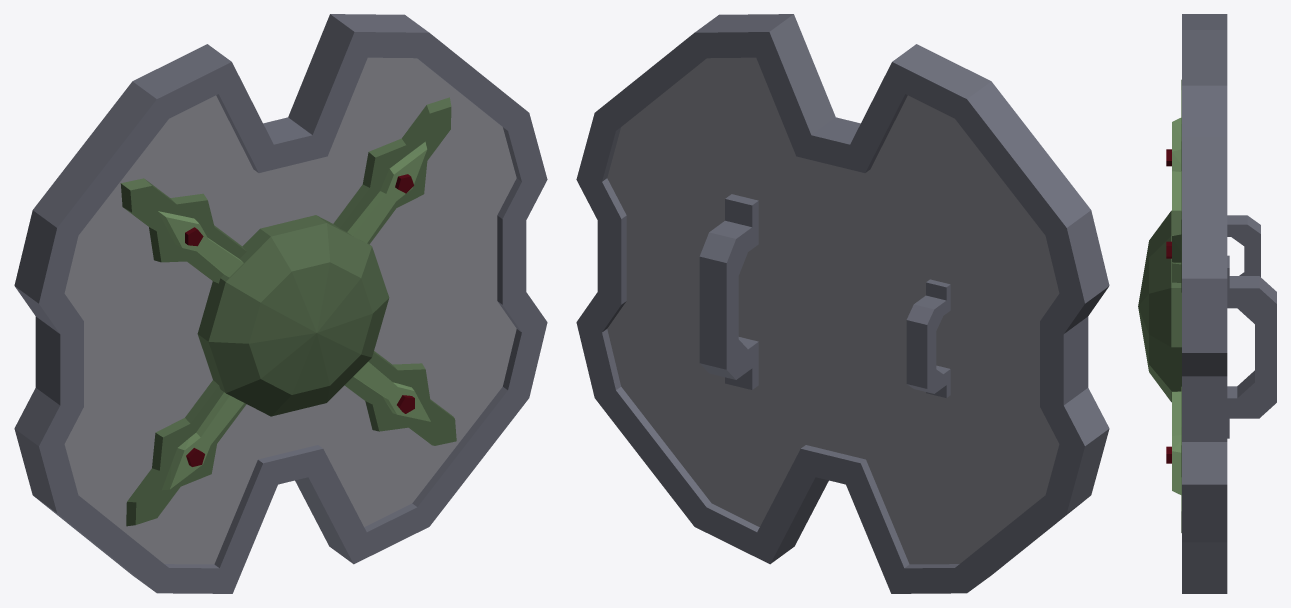
File: shield_shield_9.glb
3 renders of one model, left to right at view 1: azimuth 30°, elevation 25°; view 2: azimuth 150°, elevation 25°; view 3: azimuth 270°, elevation 25°, orthographic. The views are drawn at different scales.
Parts seen in each view (by area): view 1: shield_9; view 2: shield_9; view 3: shield_9.
Boxes of the visible parts, x1=… form: shield_9: x1=14, y1=14, x2=547, y2=593; shield_9: x1=576, y1=14, x2=1109, y2=593; shield_9: x1=1138, y1=14, x2=1276, y2=593.
Bounding box in the file's own units: 59.96 × 59.96 × 15.32.
1 material, 1 textured.
